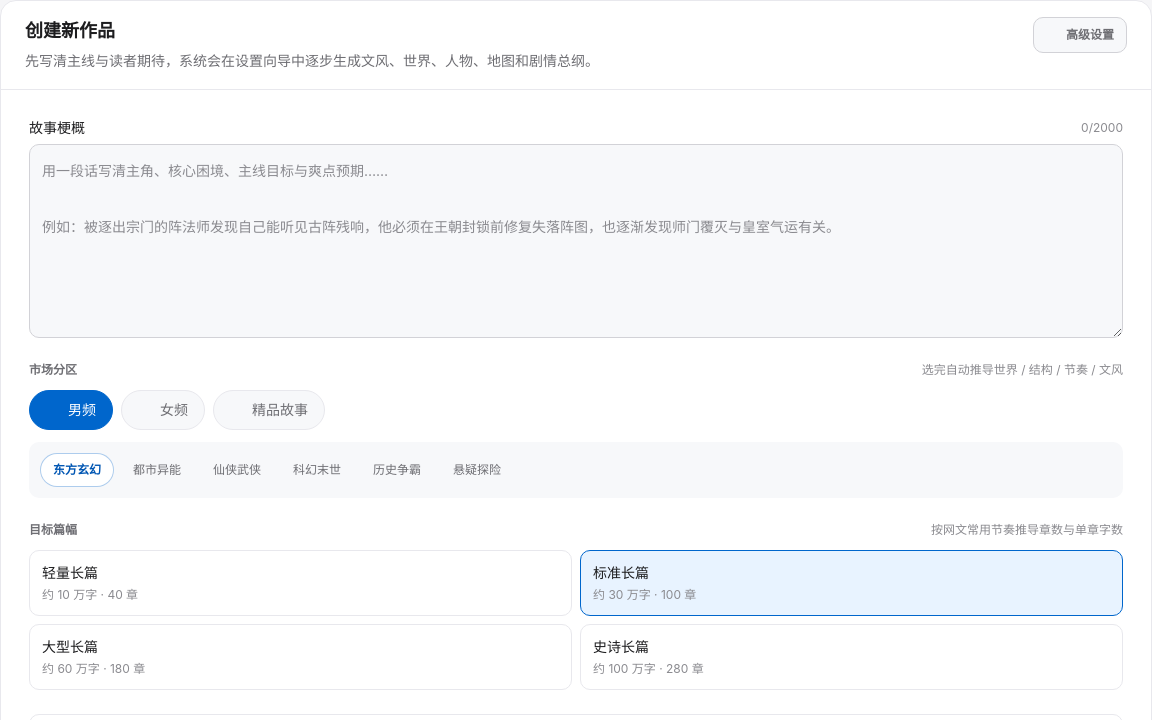
Test: NovelCreatePage 表单 › 高级设置换掉篇幅档位，露出书名与两个数字格
Expected: the heading "目标篇幅" is shown, [29,522,77,538]
Click the button "高级设置". click: (1080, 35)
box: [1033,17,1127,53]
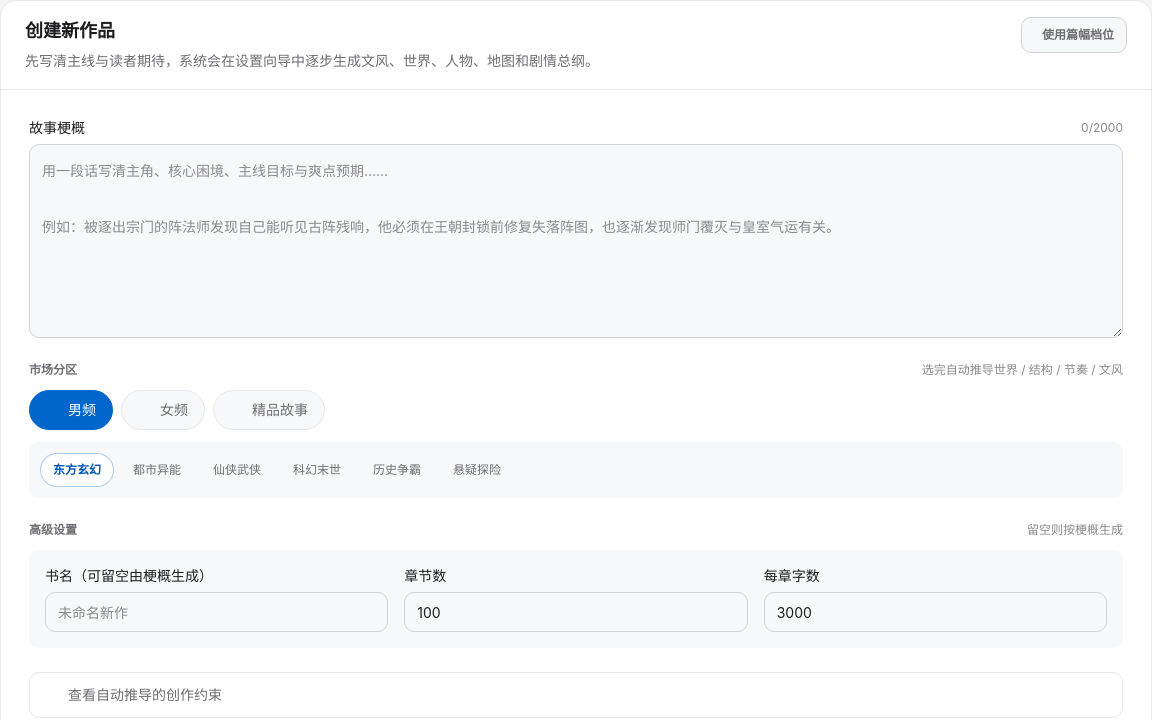
Expected: the heading "目标篇幅" is gone
Expected: the field with placeholder "未命名新作" is shown, [45,592,388,632]
Replace the text in the field labelled "章节数" with "42". click: (576, 612)
box: [404,592,748,632]
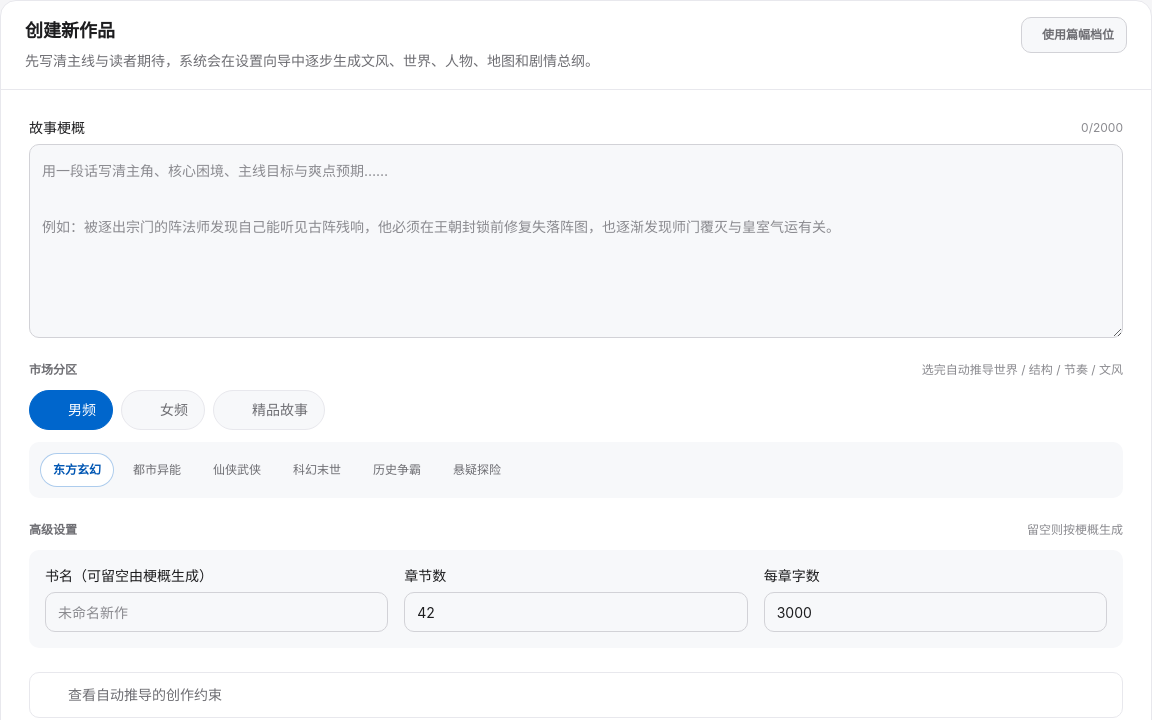
Replace the text in the field labelled "每章字数" with "2800". click: (935, 612)
box: [764,592,1107,632]
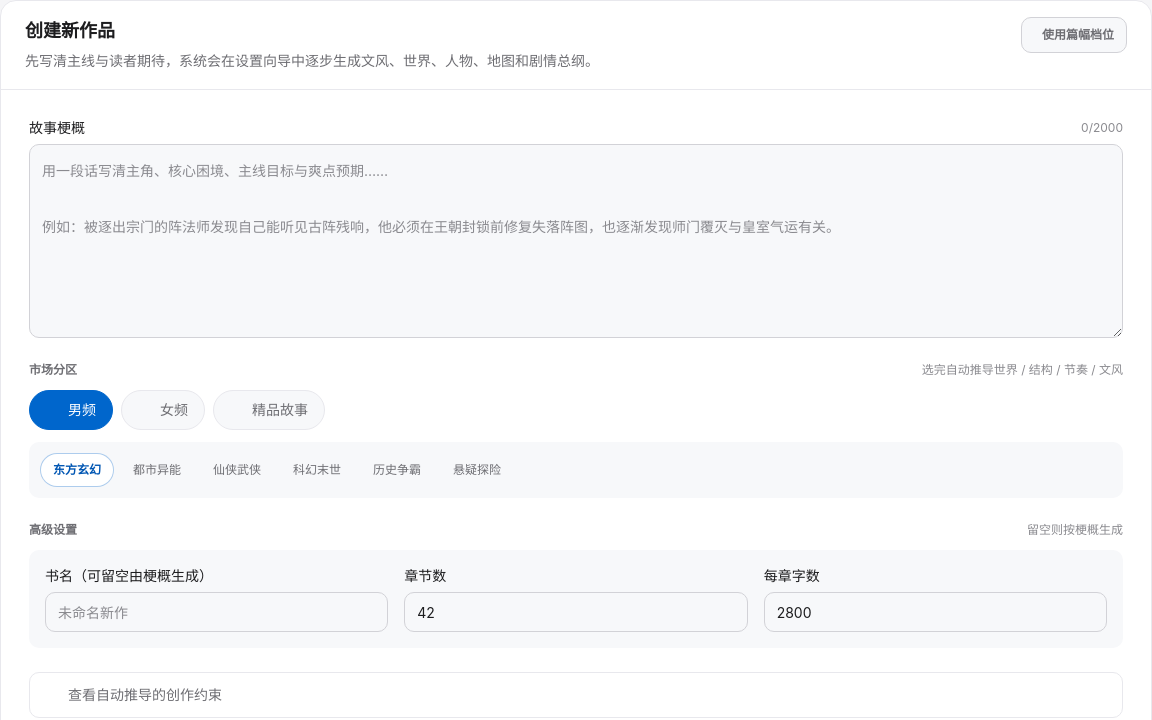
Type "长夜纪元" into the field with placeholder "未命名新作". click: (217, 612)
box: [45,592,388,632]
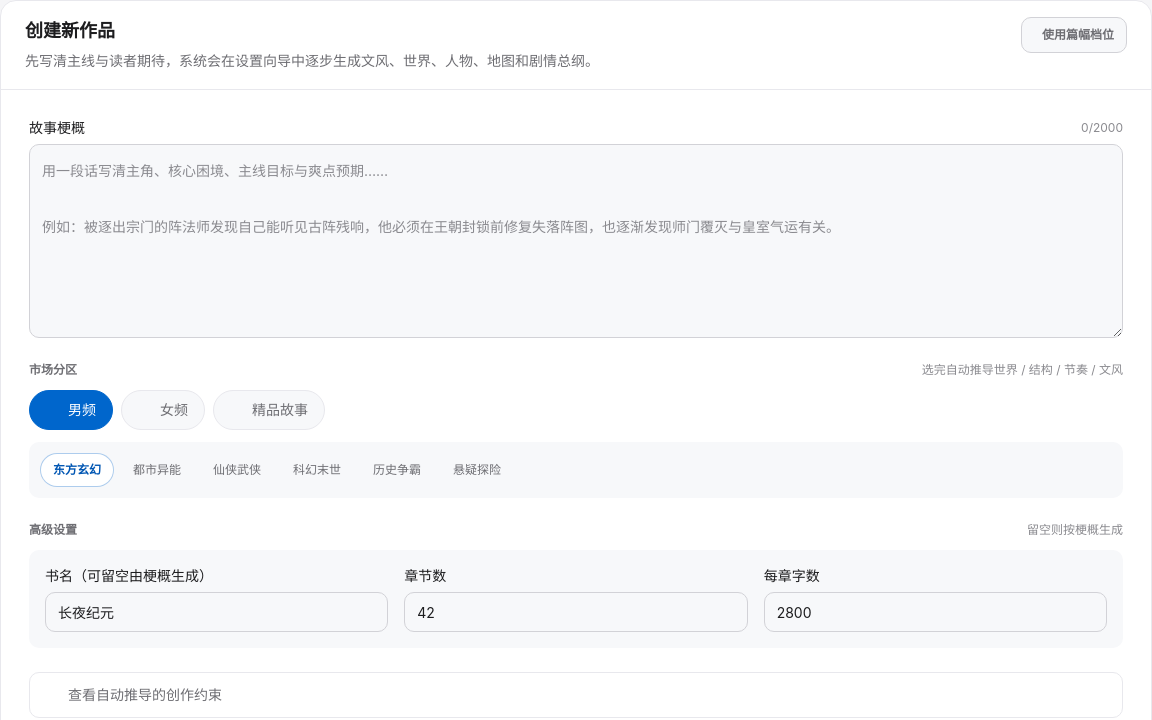
Click the button "使用篇幅档位". click: (1074, 35)
box: [1021,17,1127,53]
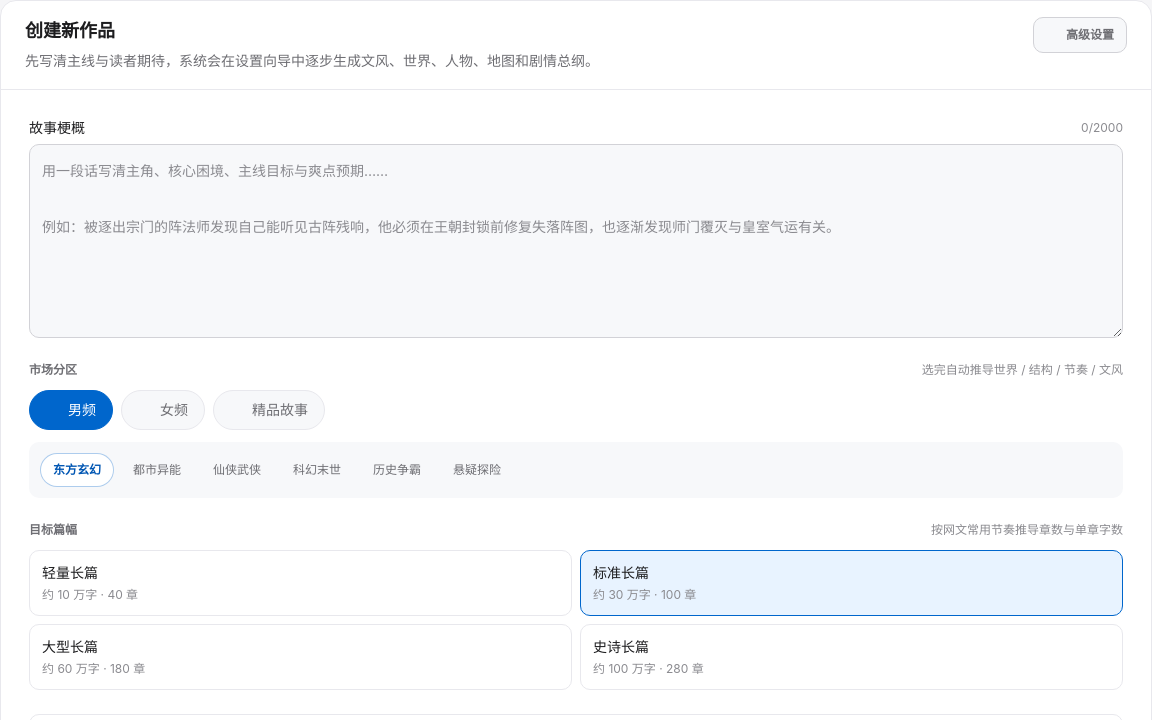
Expected: the heading "目标篇幅" is shown, [29,522,77,538]
